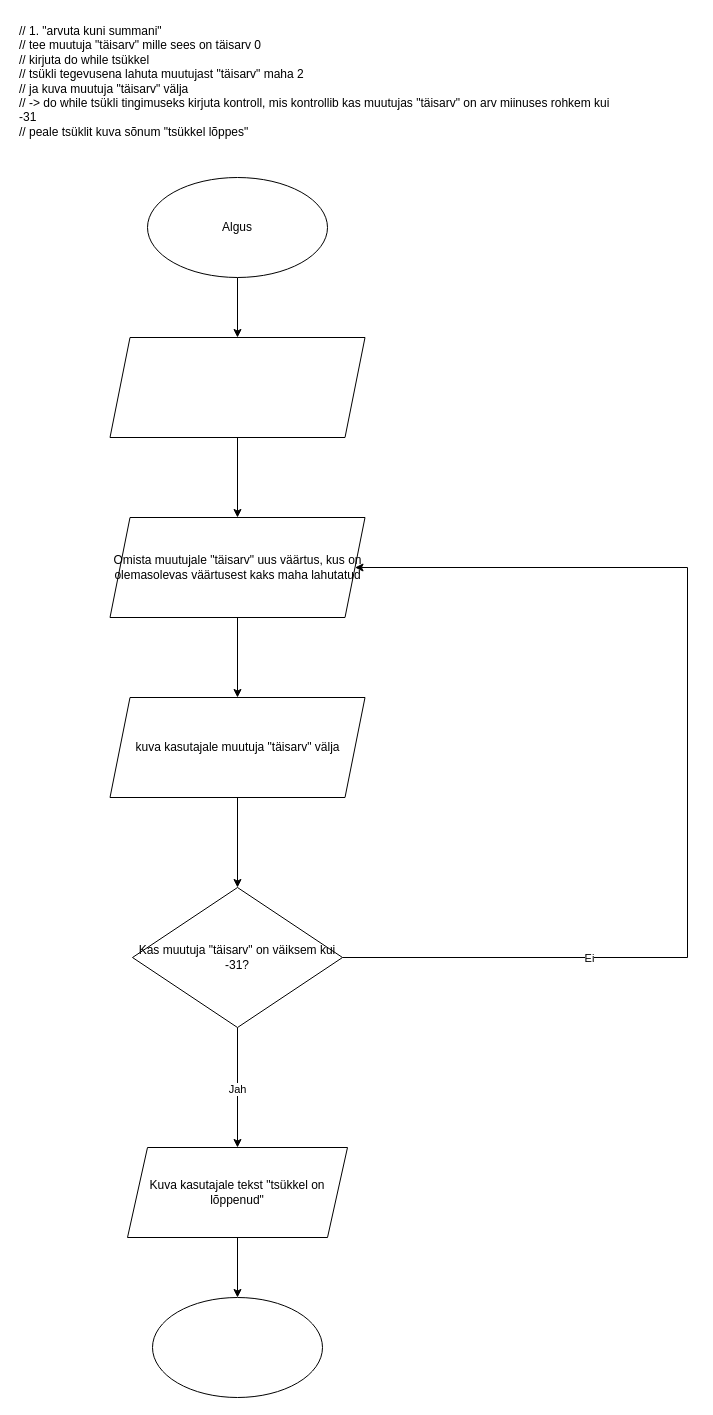
The diagram is 713 pixels wide and 1415 high, and some of its shapes have lost their labels. The centre of each missing label's shape, as x and y in pixels:
Lõpp: [237,1347]
Tekita muutuja "täisarv" millele me omistame algväärtuse 0: [237,387]
